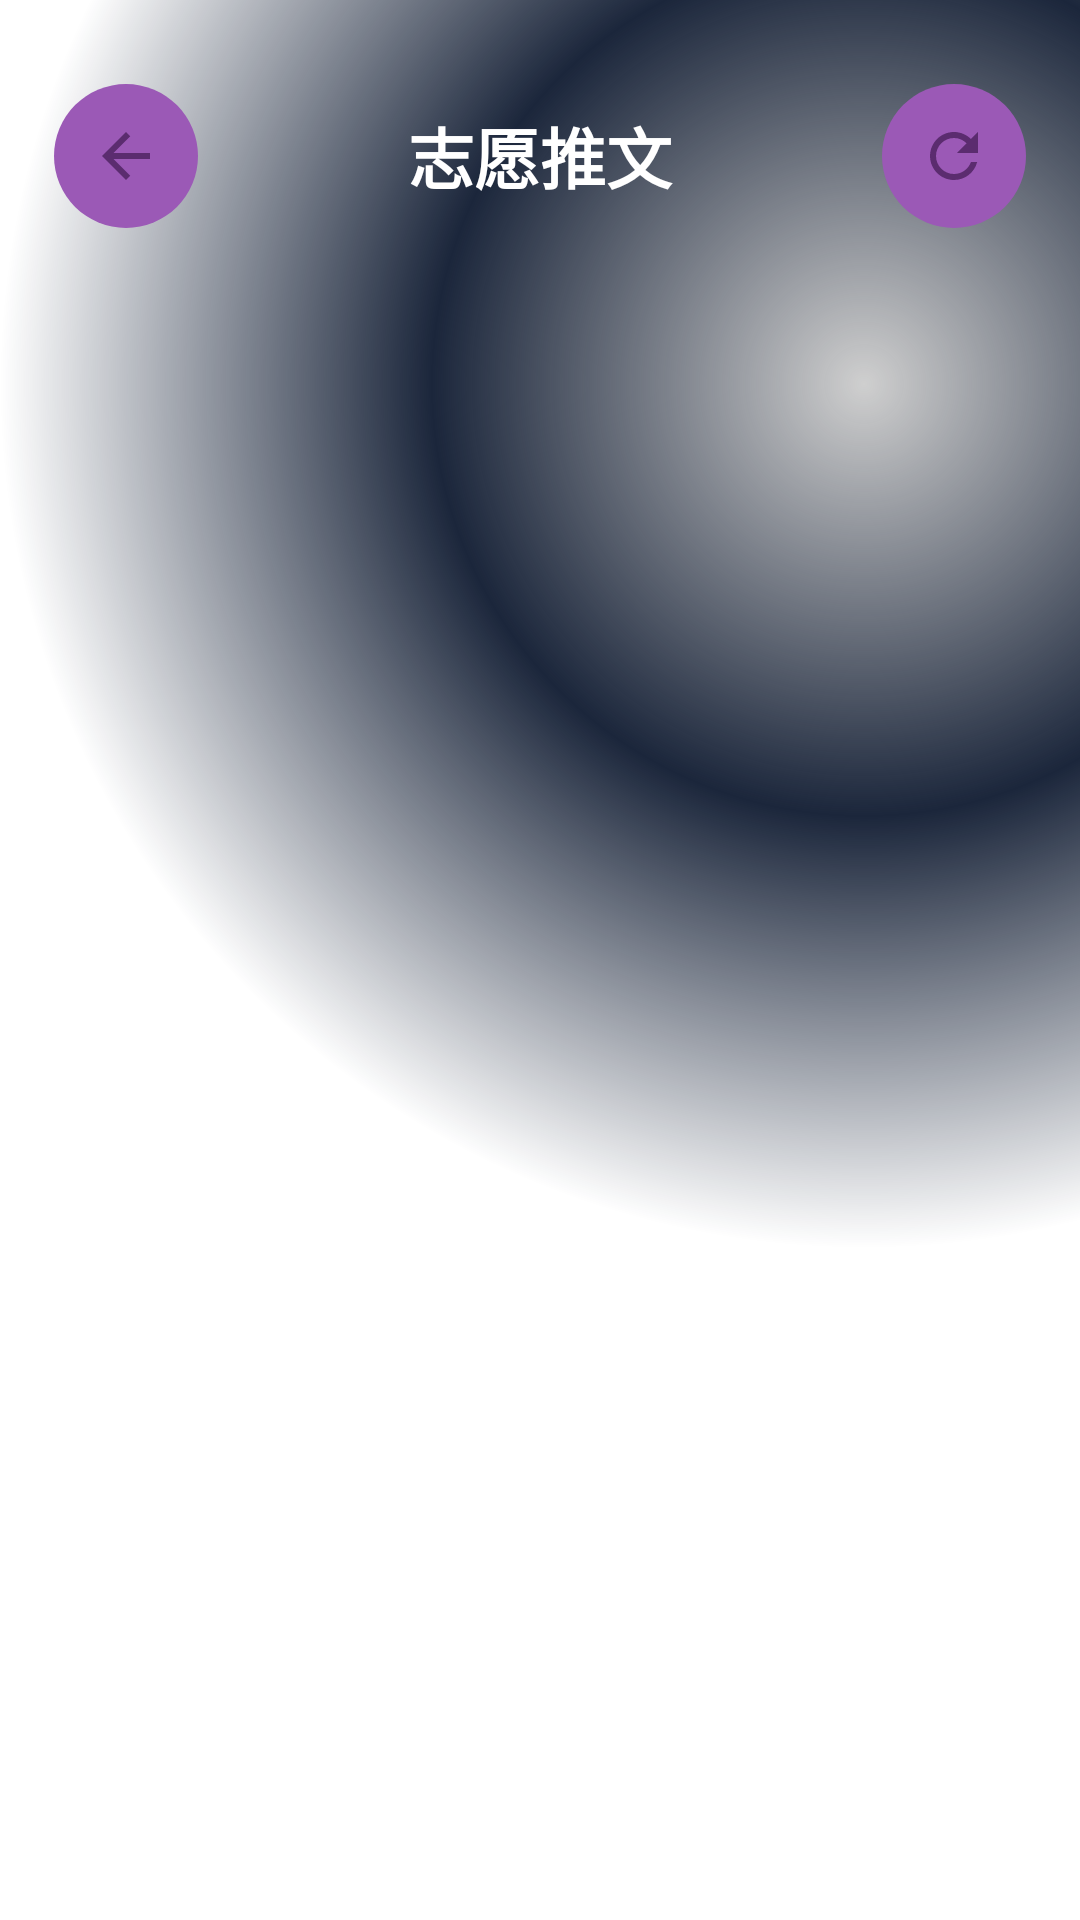

Where to tap for icons on this 1080*1920 app screen, as point (x, y):
刷新: point (954, 156)
返回: point (126, 156)
